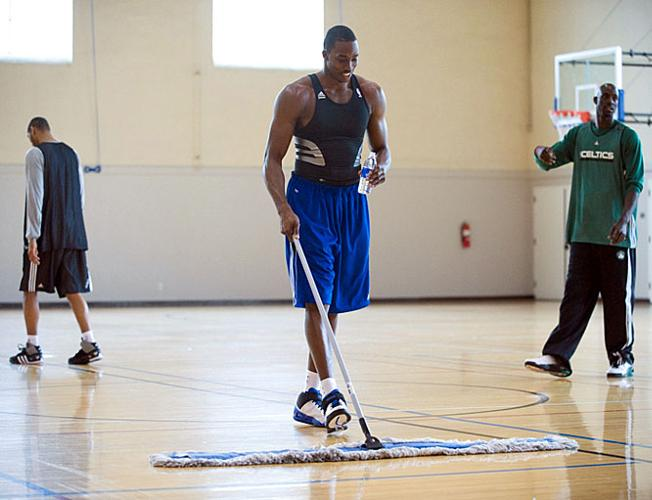person: (262, 23, 391, 437)
